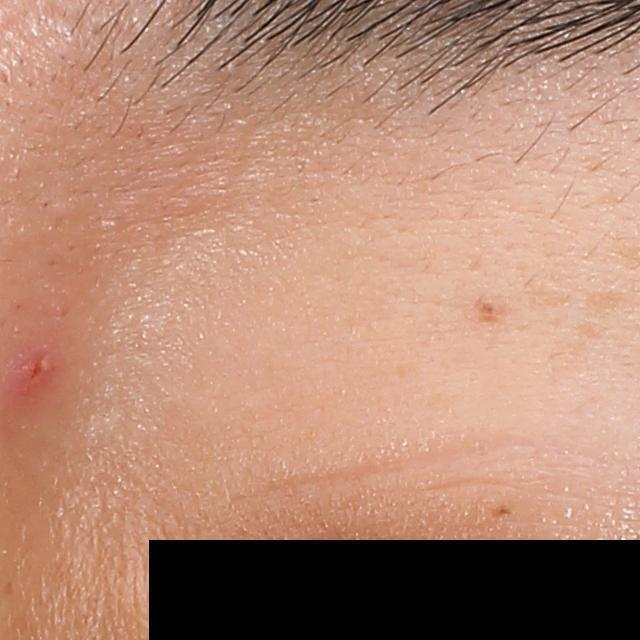papule: (13, 347, 62, 397)
